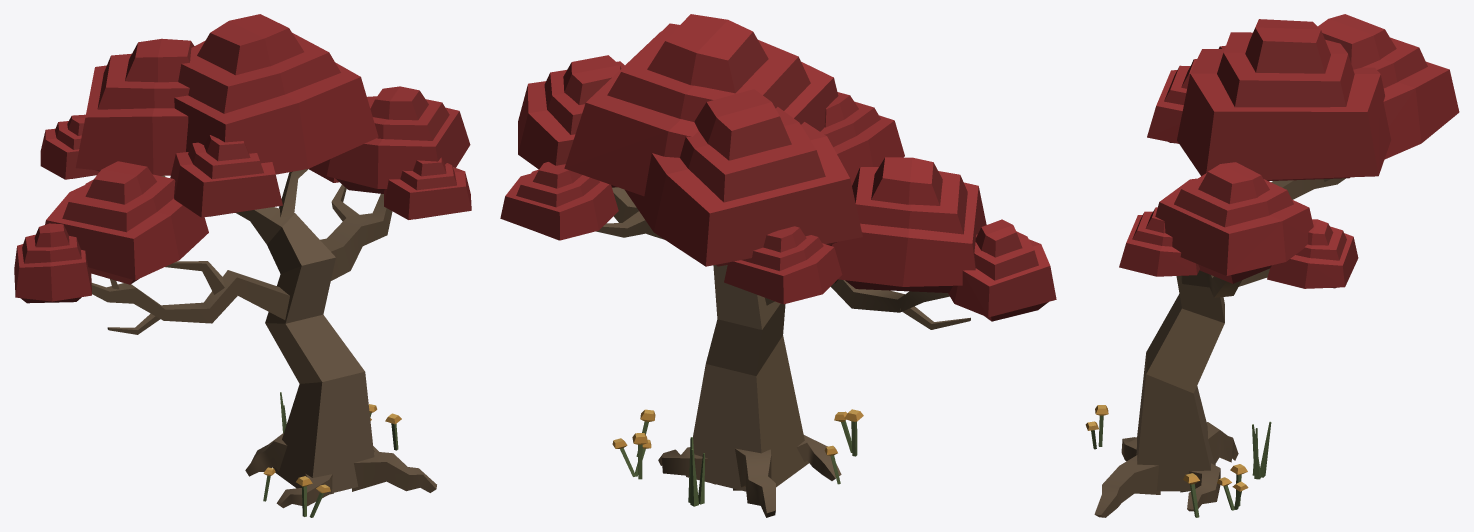
Rendered from SF_Env_Elven_Redtree_01.fbx.
3 renders of one model, left to right at view 1: azimuth 30°, elevation 25°; view 2: azimuth 150°, elevation 25°; view 3: azimuth 270°, elevation 25°, orthographic. The views are drawn at different scales.
Parts seen in each view (by area): view 1: SF_Env_Elven_Redtree_01; view 2: SF_Env_Elven_Redtree_01; view 3: SF_Env_Elven_Redtree_01.
Boxes of the visible parts, x1,y1,x2,y2 form: SF_Env_Elven_Redtree_01: (14,14,471,517); SF_Env_Elven_Redtree_01: (500,14,1056,517); SF_Env_Elven_Redtree_01: (1085,14,1459,517).
Bounding box in the file's own units: 16.54 × 14.74 × 11.2.
